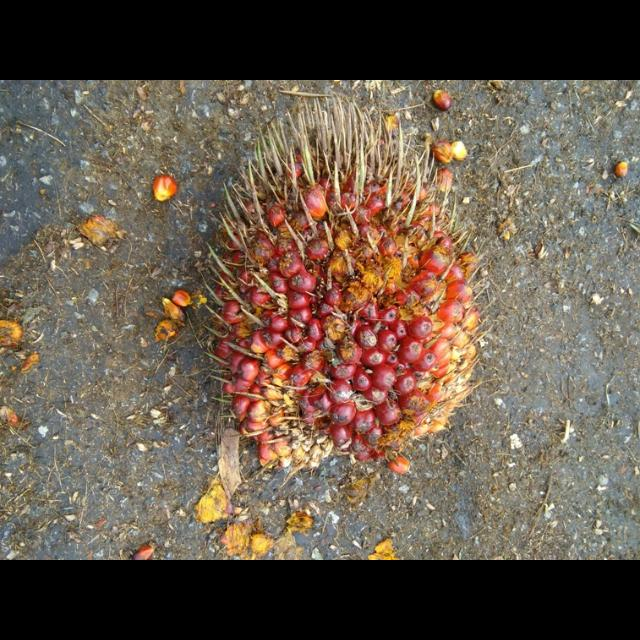Ripe: (206, 137, 481, 473)
